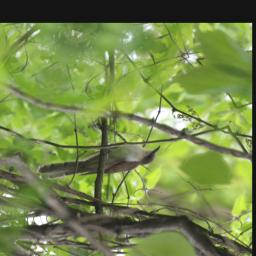Cuckoo: (33, 114, 164, 209)
